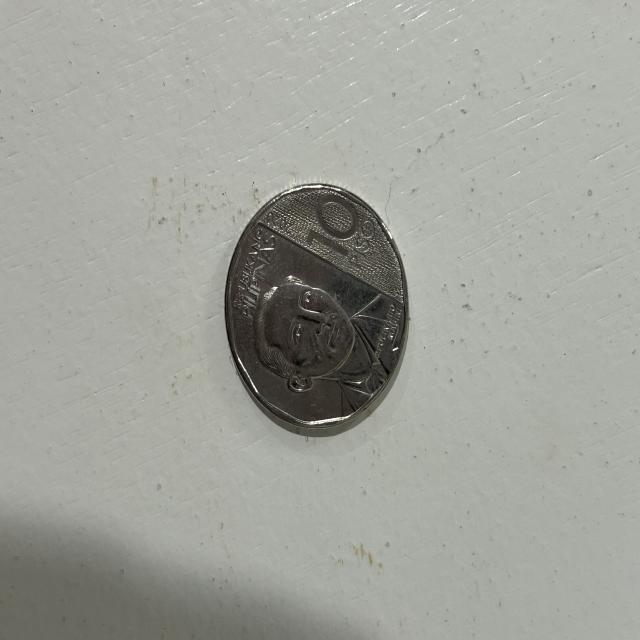10_New_Front: (257, 195, 391, 406)
